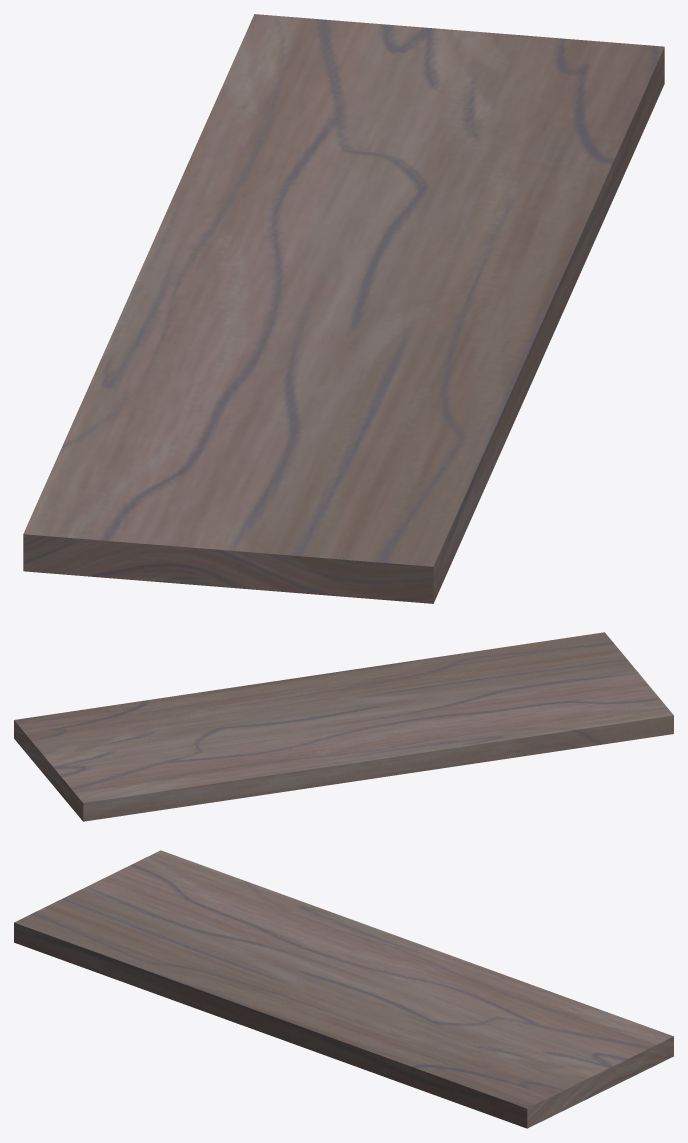
Rendered from plank_021.fbx.
3 views of the same model, one above another, from view 1: azimuth 30°, elevation 25°; view 2: azimuth 150°, elevation 25°; view 3: azimuth 270°, elevation 25° (orthographic). The views are drawn at different scales.
Parts seen in each view (by area): view 1: plank.021; view 2: plank.021; view 3: plank.021.
Boxes of the visible parts, <box> form: plank.021: <box>23,14,664,603</box>; plank.021: <box>14,632,673,821</box>; plank.021: <box>14,850,673,1128</box>.
Size of the model in its own units: 27.56 by 0.9957 by 29.75.
